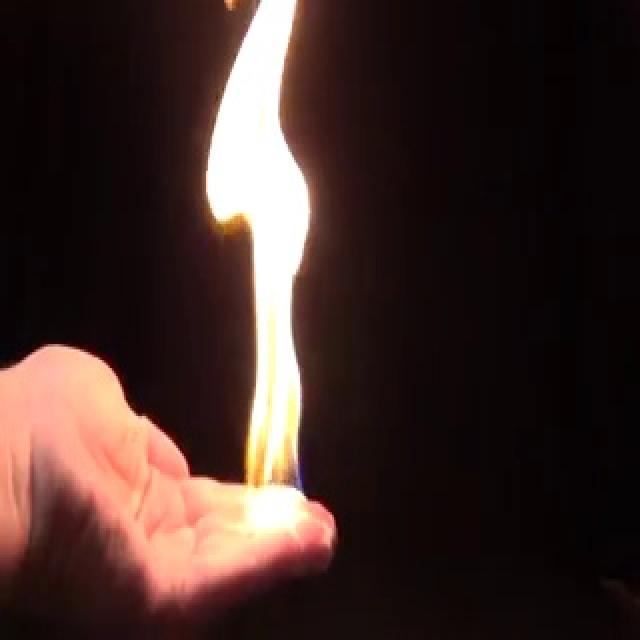fire: (200, 0, 320, 523)
